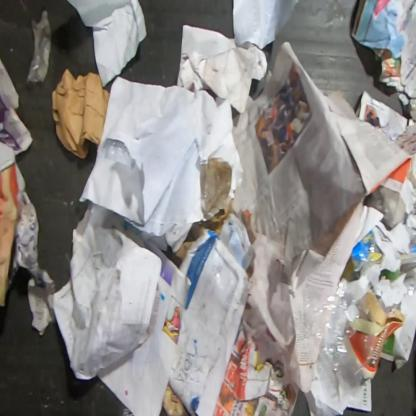cardboard: (50, 67, 110, 162), (366, 289, 406, 337), (208, 199, 232, 237), (174, 240, 196, 262), (364, 359, 380, 381)
rigid_plastic: (23, 9, 52, 89)
soft_plastic: (302, 275, 389, 399), (350, 229, 384, 272)
